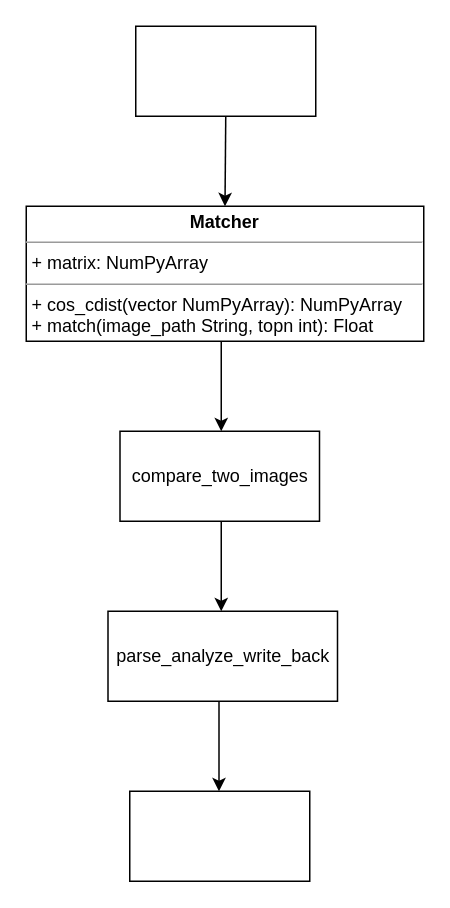
Image size: 450x908. Some labels were removed from this diagram. Here are the shapes that lost their labels. From the top down, the centre of each, then its label:
(225,70): extract_features
(219,835): main (CLI)
